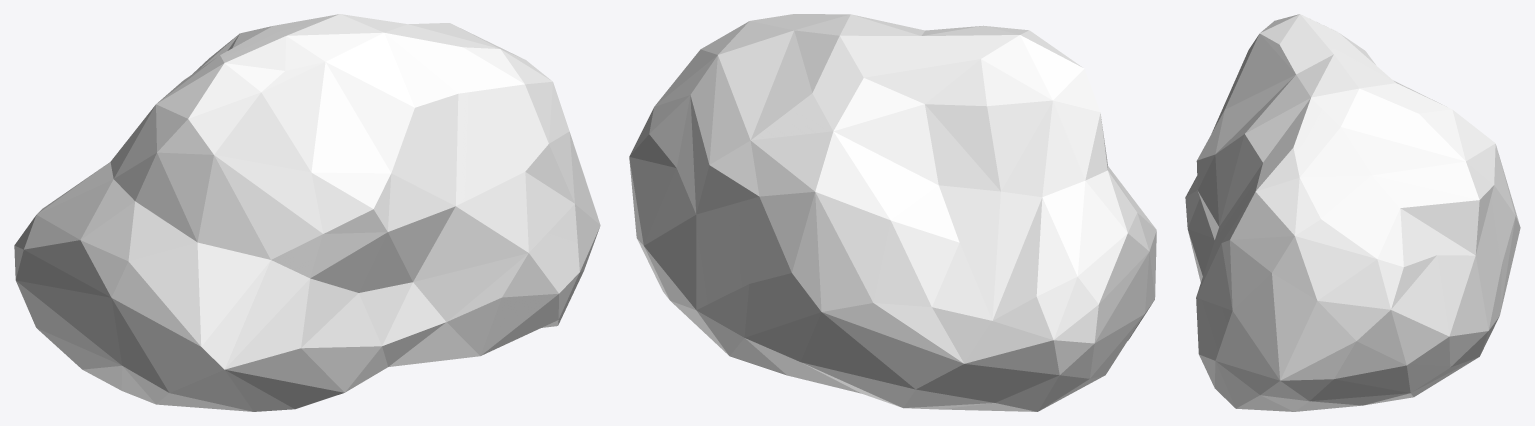
The model's file is Small_Cloud_04.glb.
The picture shows the model from 3 angles, left to right: view 1: azimuth 30°, elevation 25°; view 2: azimuth 150°, elevation 25°; view 3: azimuth 270°, elevation 25°; orthographic projection. The views are drawn at different scales.
Visible parts, largest first — view 1: Cloud_04; view 2: Cloud_04; view 3: Cloud_04.
Part boxes in pixels (bbox=[...]): Cloud_04: bbox=[14, 14, 600, 411]; Cloud_04: bbox=[629, 14, 1156, 411]; Cloud_04: bbox=[1185, 14, 1520, 411].
Bounding box in the file's own units: 3.38 × 2.11 × 2.22.
Materials: 1 (1 with a texture image).
